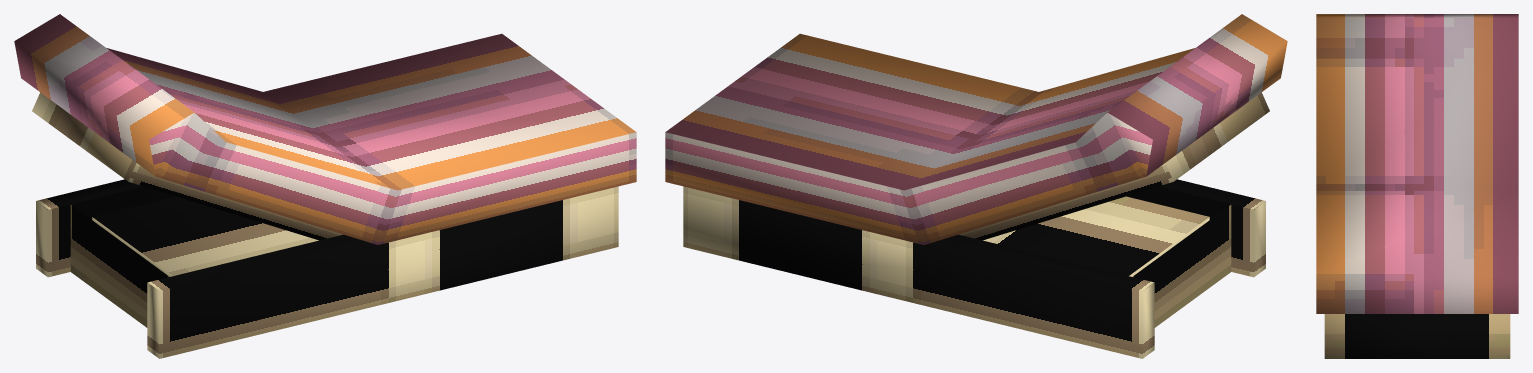
The picture shows the model from 3 angles, left to right: view 1: azimuth 30°, elevation 25°; view 2: azimuth 150°, elevation 25°; view 3: azimuth 270°, elevation 25°; orthographic projection. The views are drawn at different scales.
Visible parts, largest first — view 1: 3127IMRL09_20; view 2: 3127IMRL09_20; view 3: 3127IMRL09_20.
Boxes of the visible parts, x1,y1,x2,y2 form: 3127IMRL09_20: [14, 14, 636, 358]; 3127IMRL09_20: [665, 14, 1287, 358]; 3127IMRL09_20: [1316, 14, 1518, 358].
Size of the model in its own units: 1.95 by 0.9246 by 0.9277.
2 materials, 2 textured.
